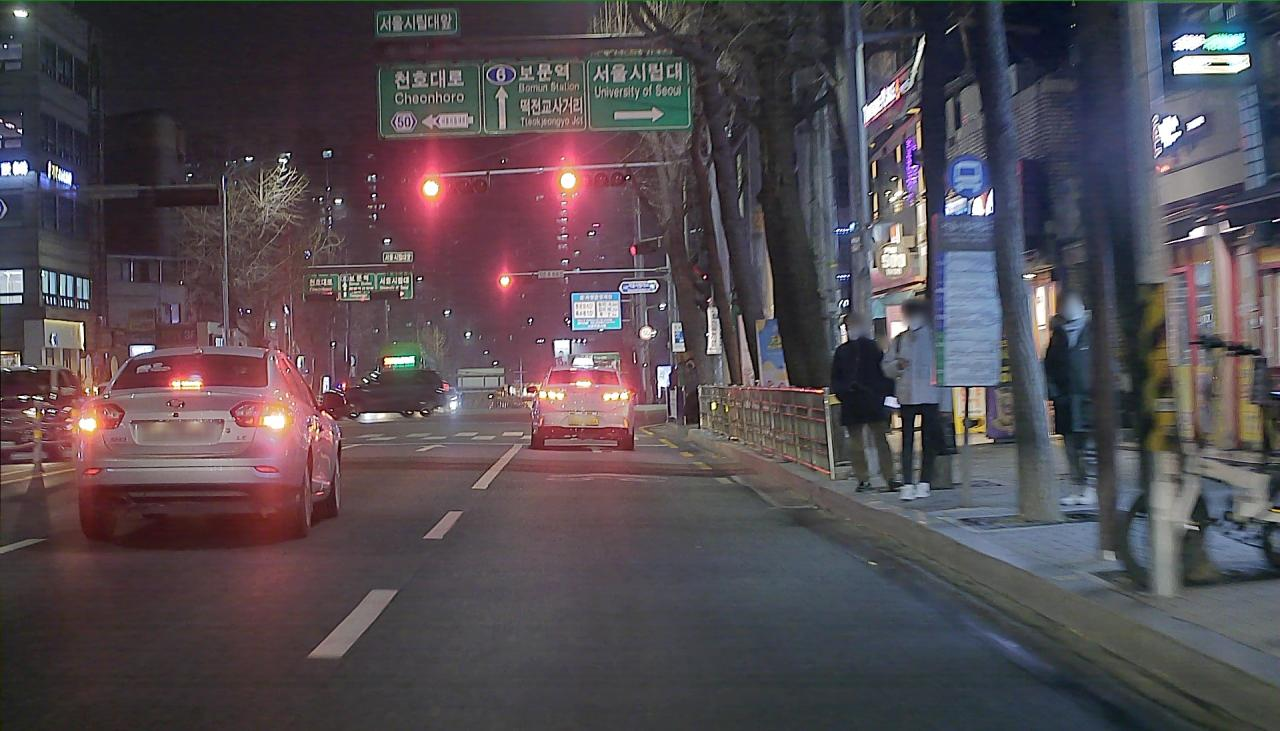Red Light: (420, 178, 440, 198), (558, 169, 577, 190)
